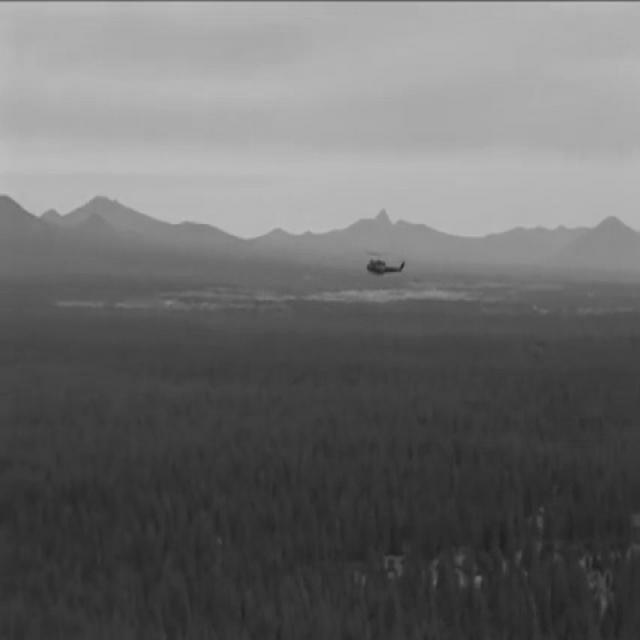helikopter: (354, 238, 414, 300)
